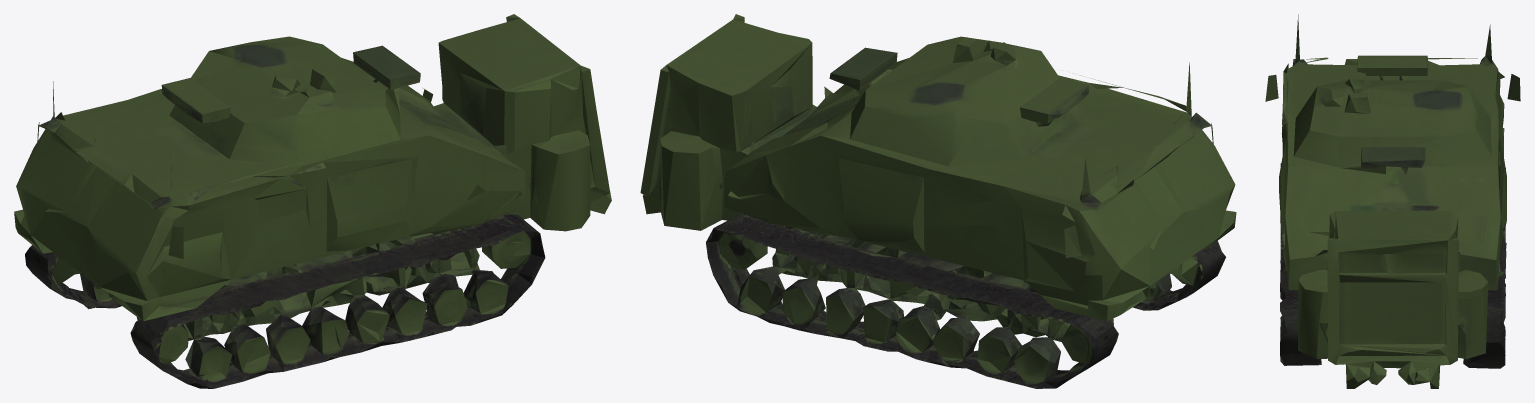
3 views of the same model, side by side, from view 1: azimuth 30°, elevation 25°; view 2: azimuth 150°, elevation 25°; view 3: azimuth 270°, elevation 25° (orthographic). The views are drawn at different scales.
Visible parts, largest first — view 1: output_unwrapped; view 2: output_unwrapped; view 3: output_unwrapped.
Part boxes in pixels (x1=…): output_unwrapped: x1=14, y1=14, x2=611, y2=388; output_unwrapped: x1=640, y1=14, x2=1236, y2=388; output_unwrapped: x1=1265, y1=14, x2=1520, y2=388.
Size of the model in its own units: 1.89 by 0.8771 by 0.9219.
1 material, 1 textured.
